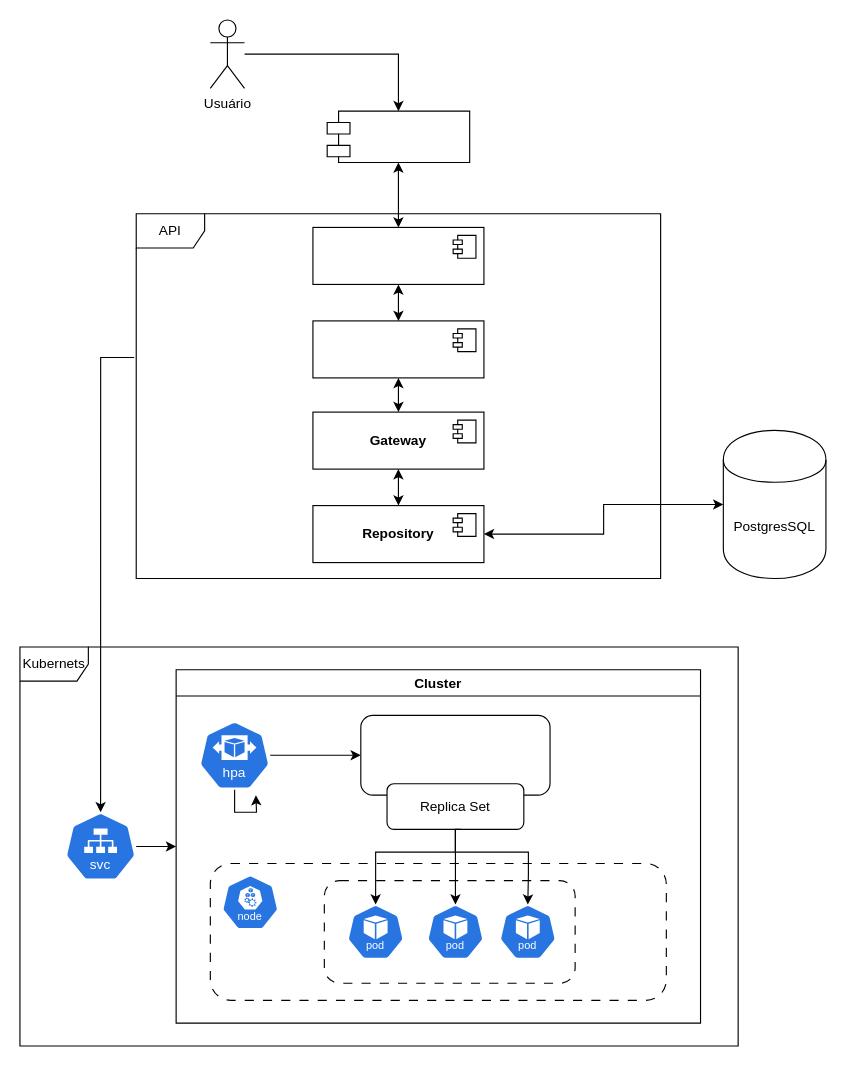
Some shapes in this 846 by 1066 pixel diagram are drawn without their labels. The shapes that lost their labels are listed below. From the top down, each one's centre as x and y in pixels, then its label:
At pixel 398 136: "Totem Cliente/ Painel Adm".
At pixel 398 255: "Controller".
At pixel 398 349: "Usecase".
At pixel 455 754: "Deployment".
